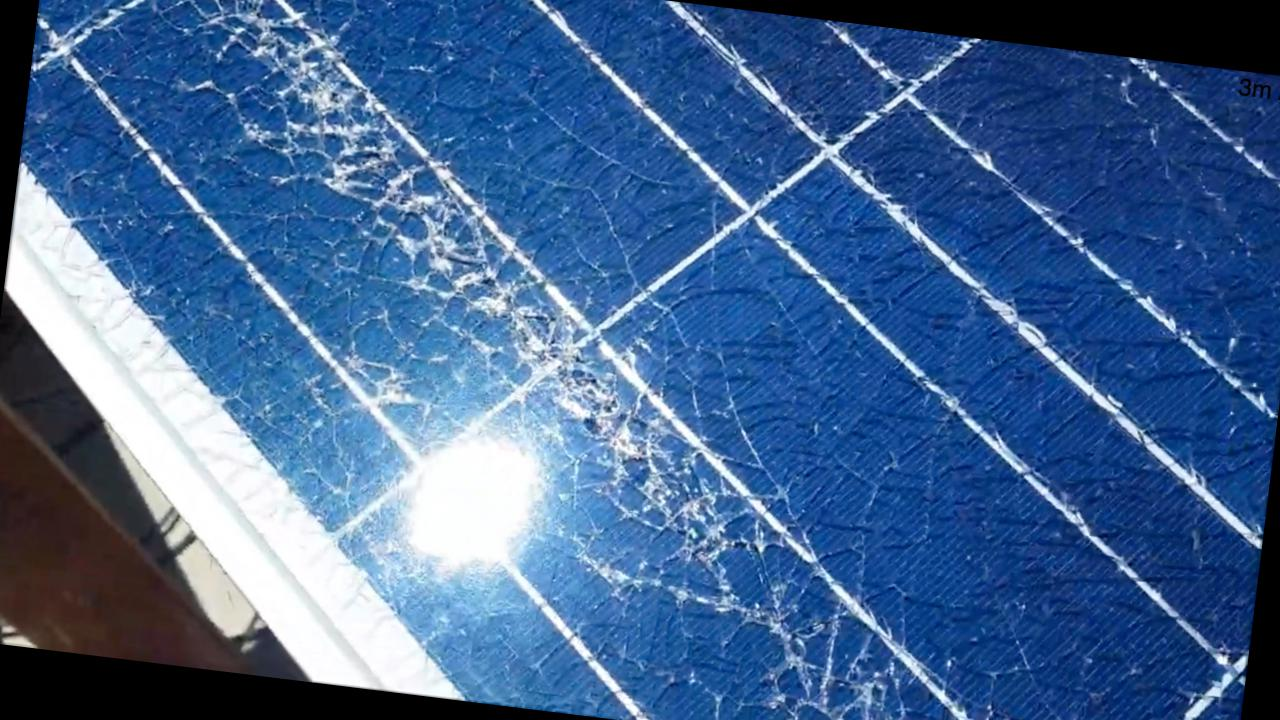Crack: (82, 0, 564, 370), (351, 168, 735, 558), (572, 408, 958, 719)
